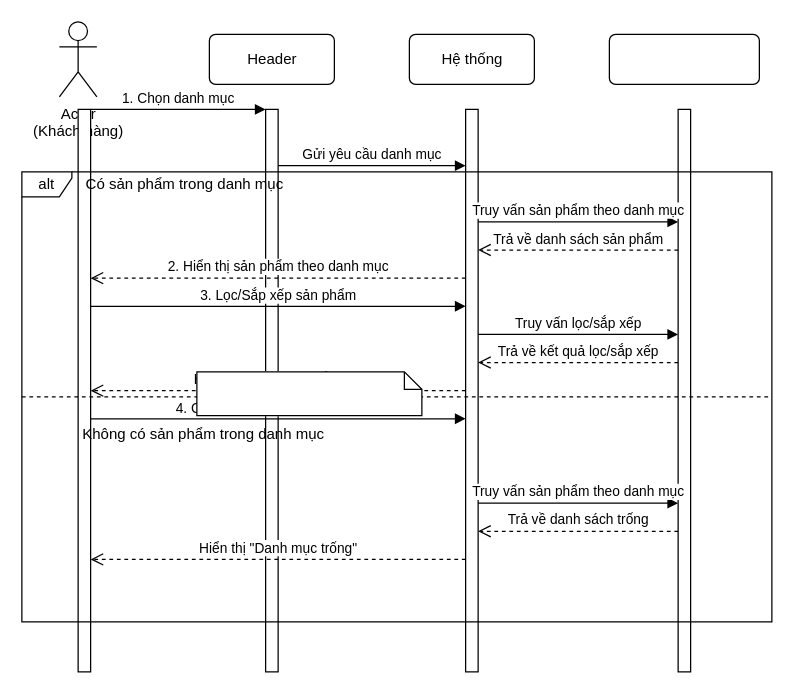
Image size: 795x694. Some labels were removed from this diagram. Here are the shapes that lost their labels. From the top down, the box of each, then its label:
(608, 33, 759, 84): Cơ sở dữ liệu
(196, 371, 422, 416): Chuyển sang Use case "Xem chi tiết sản phẩm"
